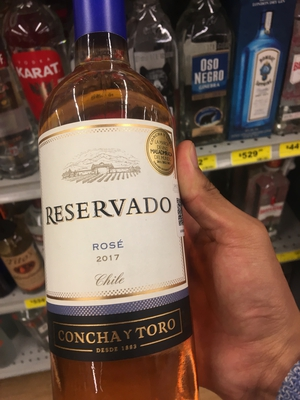reservado rose: (38, 2, 198, 399)
